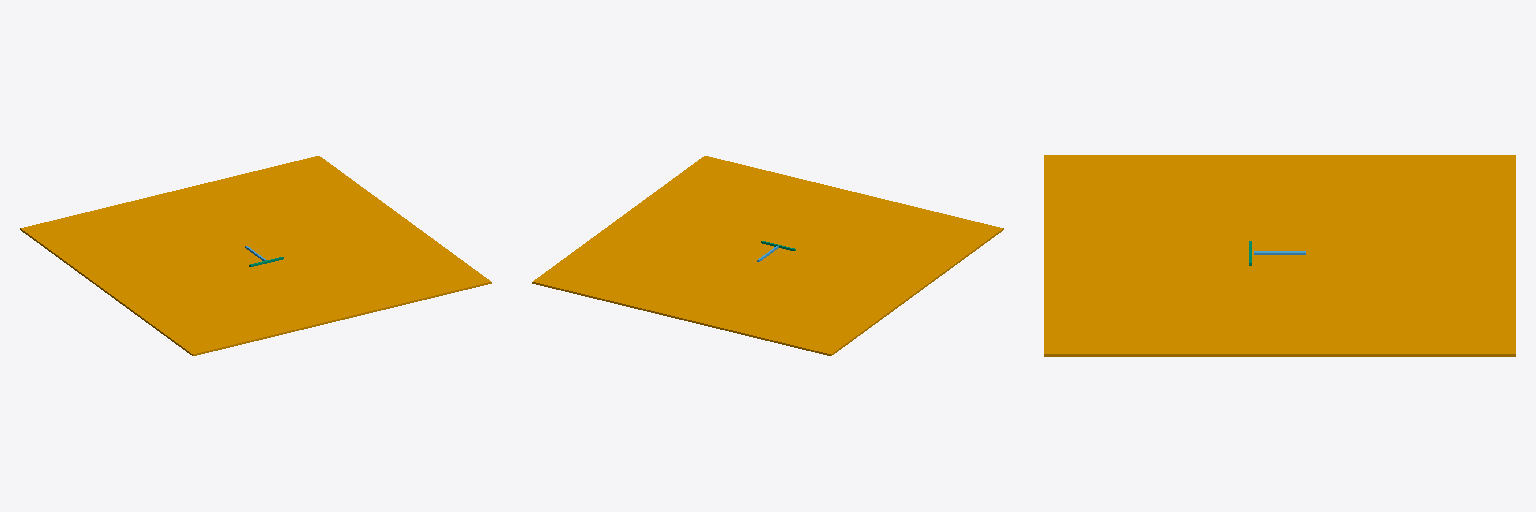
URDF robot description (simple_sliders):
<?xml version="1.0"?>
<!-- created with Phobos 1.0.1 "Capricious Choutengan" -->
  <robot name="simple_sliders">

    <link name="base_link">
      <inertial>
        <origin xyz="0 0 0" rpy="0 0 0"/>
        <mass value="0.001"/>
        <inertia ixx="0.001" ixy="0" ixz="0" iyy="0.001" iyz="0" izz="0.001"/>
      </inertial>
      <visual name="floor">
        <origin xyz="0 0 0" rpy="0 0 0"/>
        <geometry>
          <box size="16.0 16.0 0.1"/>
        </geometry>
      </visual>
      <collision name="floor">
        <origin xyz="0 0 0" rpy="0 0 0"/>
        <geometry>
          <box size="16.0 16.0 0.1"/>
        </geometry>
      </collision>
    </link>

    <link name="link0">
      <inertial>
        <origin xyz="0 0 0" rpy="0 0 0"/>
        <mass value="0.001"/>
        <inertia ixx="0.001" ixy="0" ixz="0" iyy="0.001" iyz="0" izz="0.001"/>
      </inertial>
      <visual name="visual_cube0">
        <origin xyz="0 0 0" rpy="0 0 0"/>
        <geometry>
          <box size="0.1 0.1 1.8"/>
        </geometry>
      </visual>
      <collision name="collision_cube0">
        <origin xyz="0 0 0" rpy="0 0 0"/>
        <geometry>
          <box size="0.1 0.1 1.8"/>
        </geometry>
      </collision>
    </link>

    <link name="link1">
      <inertial>
        <origin xyz="0 0 0" rpy="0 0 0"/>
        <mass value="0.001"/>
        <inertia ixx="0.001" ixy="0" ixz="0" iyy="0.001" iyz="0" izz="0.001"/>
      </inertial>
      <visual name="visual_cube1">
        <origin xyz="0 0 0" rpy="0 0 0"/>
        <geometry>
          <box size="0.1 0.1 1.8"/>
        </geometry>
      </visual>
      <collision name="collision_cube1">
        <origin xyz="0 0 0" rpy="0 0 0"/>
        <geometry>
          <box size="0.1 0.1 1.8"/>
        </geometry>
      </collision>
    </link>

    <joint name="link0" type="prismatic">
      <origin xyz="0 0 0.1" rpy="1.5708 0 0"/>
      <parent link="base_link"/>
      <child link="link0"/>
      <axis xyz="0 0 1.0"/>
      <limit lower="0" upper="1.0" effort="0" velocity="0"/>
    </joint>

    <joint name="link1" type="prismatic">
      <origin xyz="0 -1.0 0.1" rpy="0 1.5708 0"/>
      <parent link="base_link"/>
      <child link="link1"/>
      <axis xyz="0 0 1.0"/>
      <limit lower="0" upper="1.0" effort="0" velocity="0"/>
    </joint>

  </robot>

--- What the picture shows (computed from the rendered views, not written in the file) ---
The picture shows the robot from 3 angles, left to right: view 1: azimuth 30°, elevation 25°; view 2: azimuth 150°, elevation 25°; view 3: azimuth 270°, elevation 25°; orthographic projection.
Model simple_sliders with 3 links and 2 joints (2 prismatic), rooted at base_link, posed every joint at zero.
Links seen in each view (by area): view 1: base_link; view 2: base_link; view 3: base_link.
Boxes of the visible links, x1,y1,x2,y2 form: base_link: [20, 156, 491, 355]; base_link: [532, 156, 1003, 355]; base_link: [1044, 155, 1515, 356].
Size in the robot's own frame: 16 by 16 by 0.2 metres.
Geometry: primitives only (box / cylinder / sphere), no mesh files.